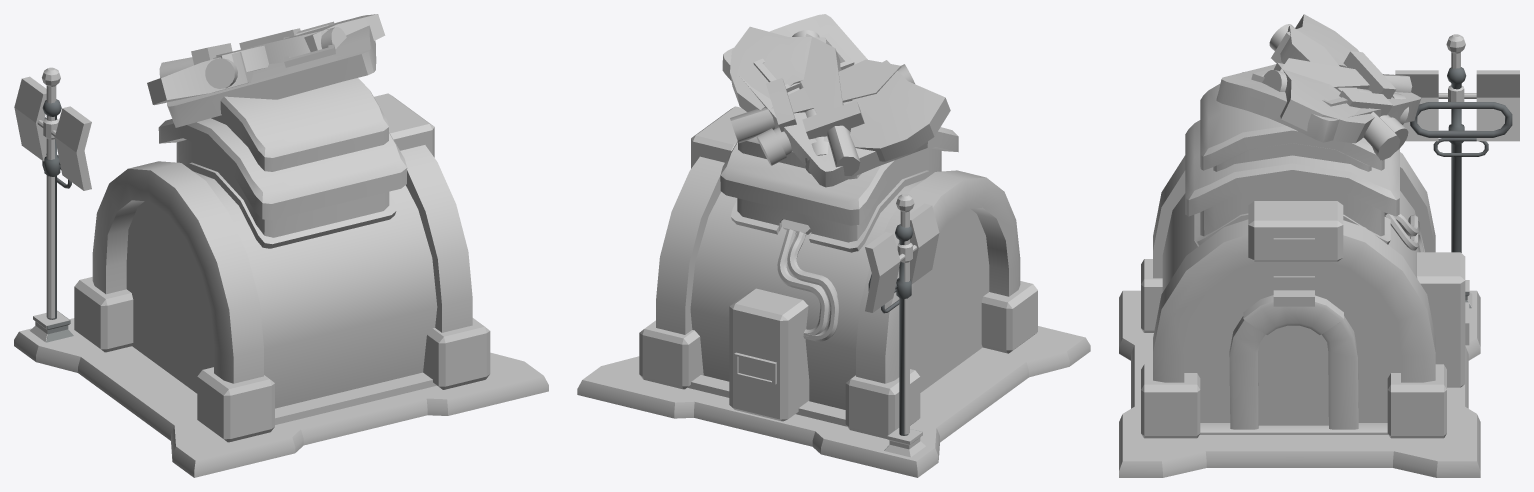
Rendered from 兵营升级三合一1.fbx.
3 views of the same model, side by side, from view 1: azimuth 30°, elevation 25°; view 2: azimuth 150°, elevation 25°; view 3: azimuth 270°, elevation 25° (orthographic). The views are drawn at different scales.
Visible parts, largest first — view 1: object 1, 升级2, 升级1, dun, fuzi, jian, 升级1a; view 2: object 1, 升级1, fuzi, jian, 升级2, dun, 升级1a; view 3: object 1, 升级1, 升级2, fuzi, jian, dun, 升级1a.
Boxes of the visible parts, x1,y1,x2,y2 form: object 1: (14, 93, 548, 477); 升级2: (14, 67, 388, 342); 升级1: (158, 118, 407, 248); dun: (167, 15, 376, 127); fuzi: (147, 14, 385, 105); jian: (159, 28, 329, 77); 升级1a: (42, 99, 73, 342); object 1: (577, 106, 1090, 477); 升级1: (720, 127, 958, 341); fuzi: (730, 26, 950, 173); jian: (730, 33, 901, 176); 升级2: (738, 136, 939, 457); dun: (722, 14, 927, 187); 升级1a: (868, 224, 920, 450); object 1: (1119, 152, 1480, 477); 升级1: (1185, 120, 1424, 252); 升级2: (1200, 34, 1519, 307); fuzi: (1262, 14, 1408, 151); jian: (1279, 26, 1412, 160); dun: (1216, 64, 1421, 142); 升级1a: (1410, 67, 1512, 308).
Size of the model in its own units: 35.64 by 32.56 by 34.77.
